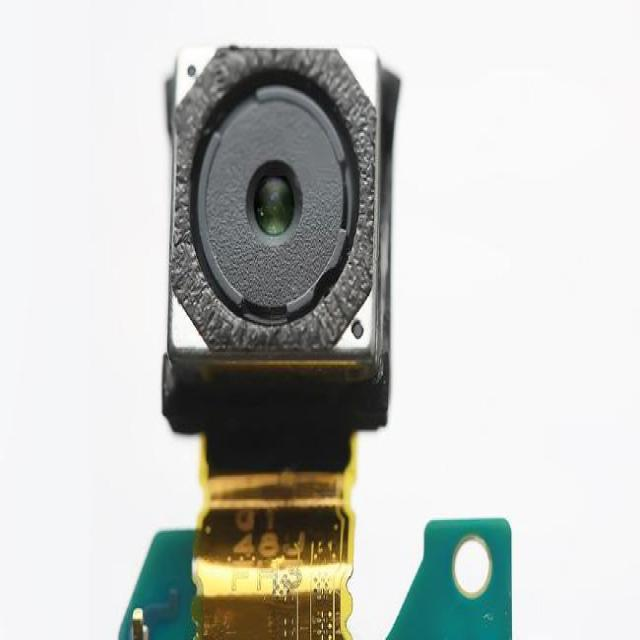hidden camera: (252, 164, 297, 237)
